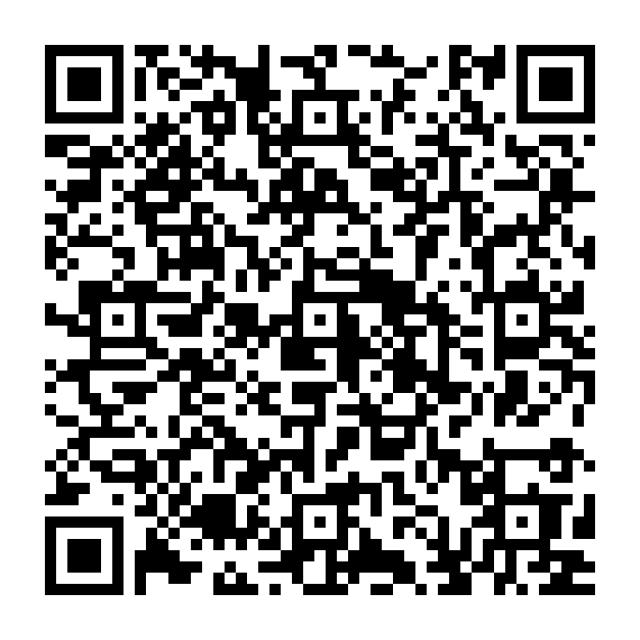QRCode: (1, 1, 627, 638)
